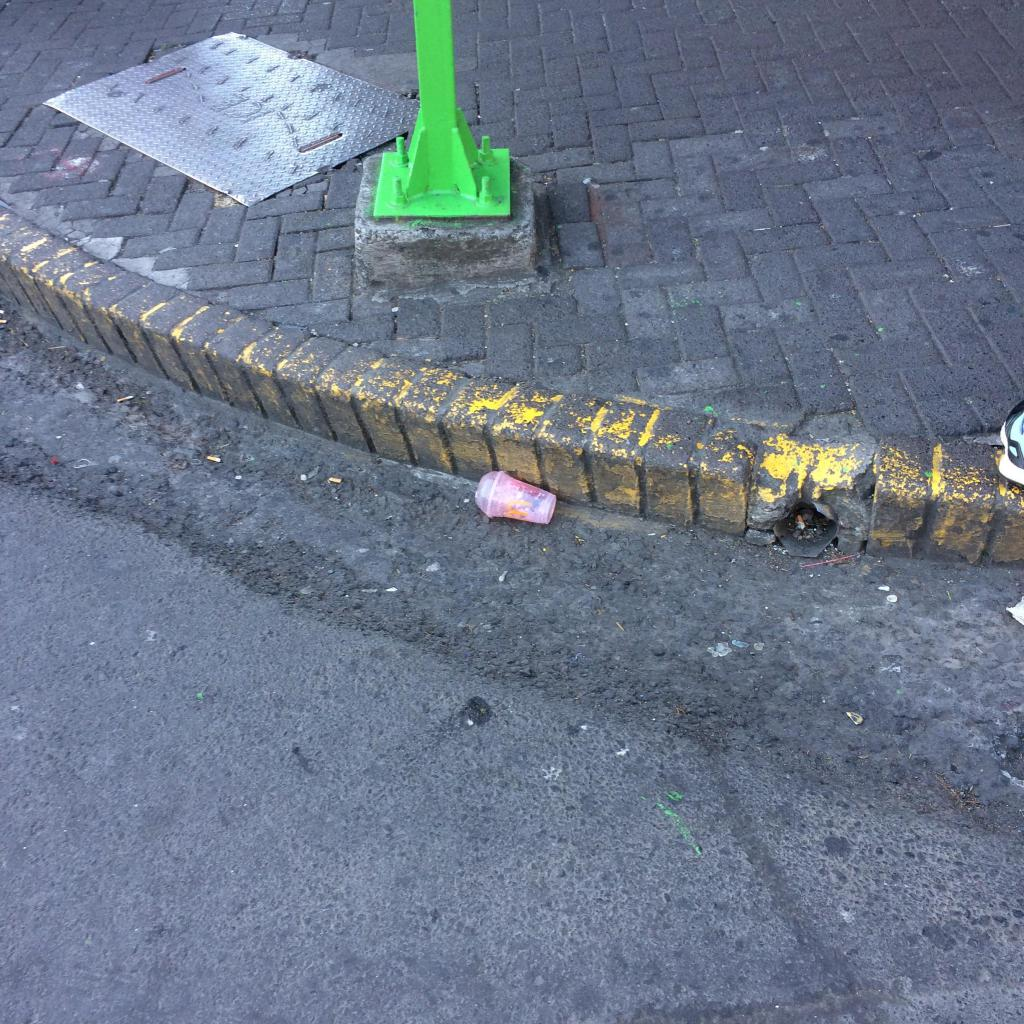Cigarette: (206, 454, 220, 462), (796, 514, 804, 528), (118, 395, 134, 401), (328, 476, 342, 482)
Disposable plastic cup: (475, 470, 557, 524)
Plastic lid: (476, 470, 502, 516)
